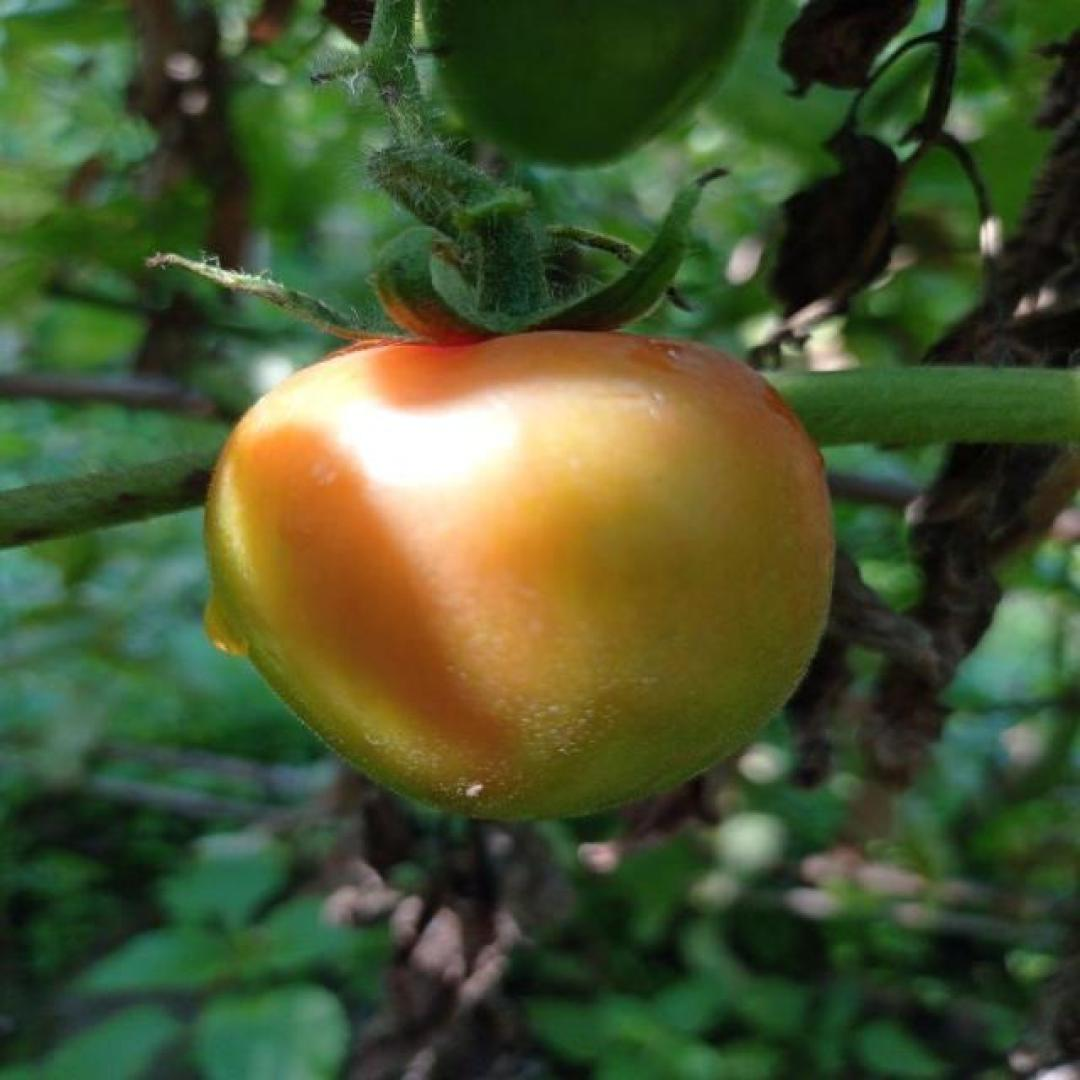setengah_matang: (201, 324, 835, 820)
